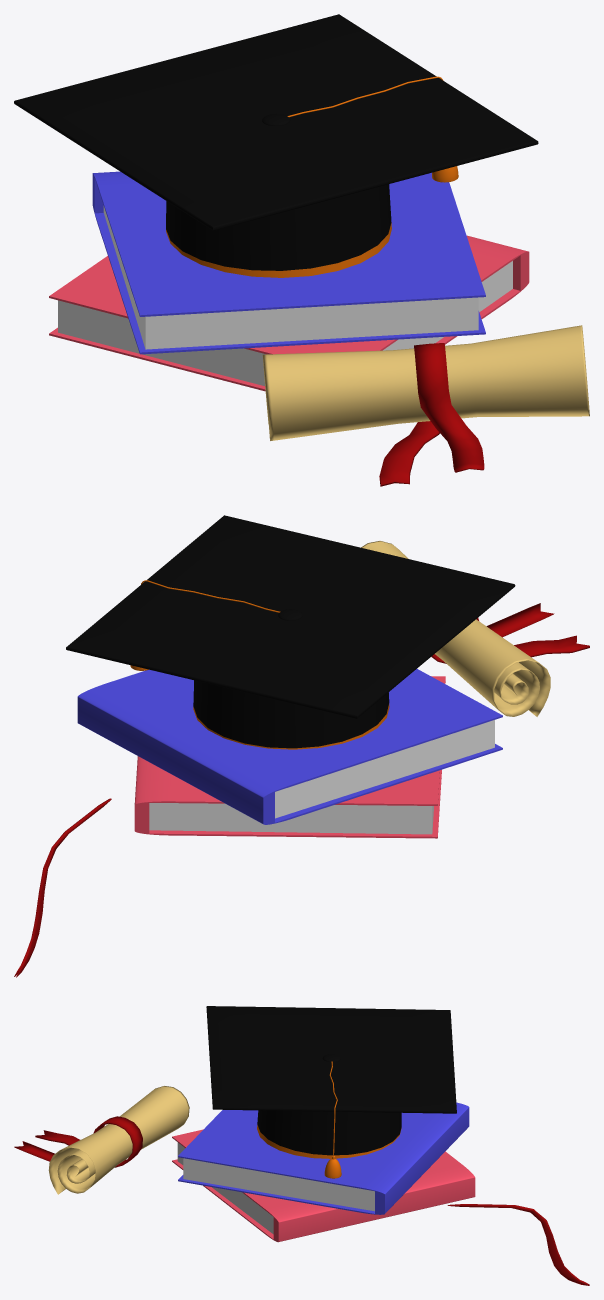
The model's file is graduation_scale_pos.glb.
3 views of the same model, one above another, from view 1: azimuth 30°, elevation 25°; view 2: azimuth 150°, elevation 25°; view 3: azimuth 270°, elevation 25° (orthographic). The views are drawn at different scales.
Parts seen in each view (by area): view 1: Cube_2, Cube.001, Object_7, Cube, Object_6; view 2: Cube_2, Cube.001, Cube, Object_7, Object_6, Object_9; view 3: Cube_2, Cube.001, Cube, Object_7, Object_6, Object_9.
Part boxes in pixels (x1,y1,x2,y2): Cube_2: (14, 14, 538, 277); Cube.001: (92, 171, 485, 354); Object_7: (262, 325, 589, 440); Cube: (49, 235, 529, 391); Object_6: (379, 343, 484, 486); Cube_2: (66, 515, 515, 749); Cube.001: (77, 669, 502, 824); Cube: (134, 676, 445, 838); Object_7: (361, 541, 550, 716); Object_6: (431, 603, 589, 663); Object_9: (14, 798, 111, 977); Cube_2: (206, 1006, 456, 1158); Cube.001: (178, 1102, 469, 1214); Cube: (172, 1129, 475, 1242); Object_7: (48, 1086, 189, 1194); Object_6: (14, 1116, 142, 1167); Object_9: (447, 1204, 589, 1285).
Bounding box in the file's own units: 1.74 × 1.24 × 3.31.
